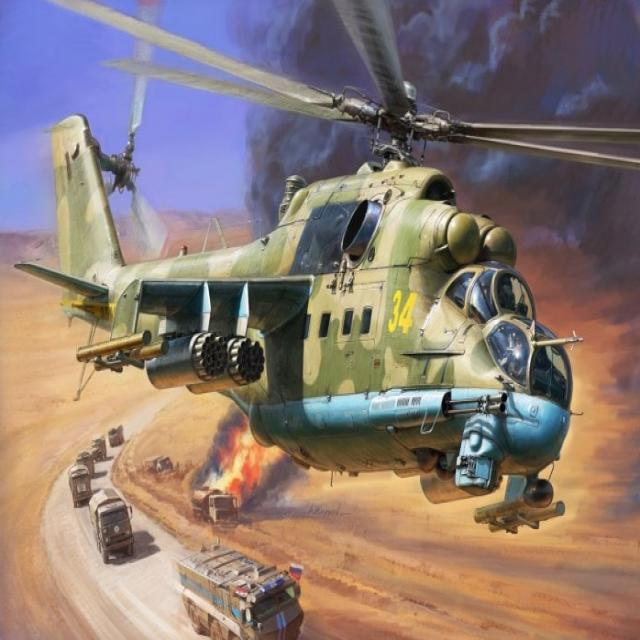helicopter: (45, 1, 627, 584)
